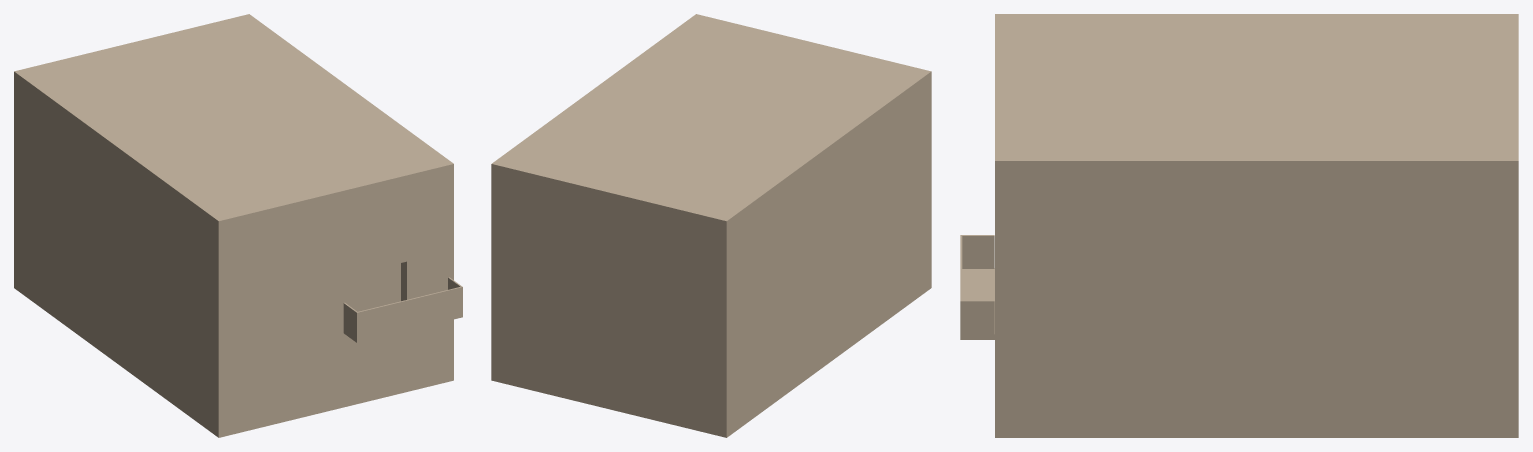
File: massing.glb
3 views of the same model, side by side, from view 1: azimuth 30°, elevation 25°; view 2: azimuth 150°, elevation 25°; view 3: azimuth 270°, elevation 25° (orthographic). The views are drawn at different scales.
Parts seen in each view (by area): view 1: building/exterior; view 2: building/exterior; view 3: building/exterior.
Part boxes in pixels (<box>): building/exterior: <box>14,14,462,437</box>; building/exterior: <box>491,14,931,437</box>; building/exterior: <box>960,14,1518,437</box>.
Size of the model in its own units: 10 by 8.8 by 16.07.
